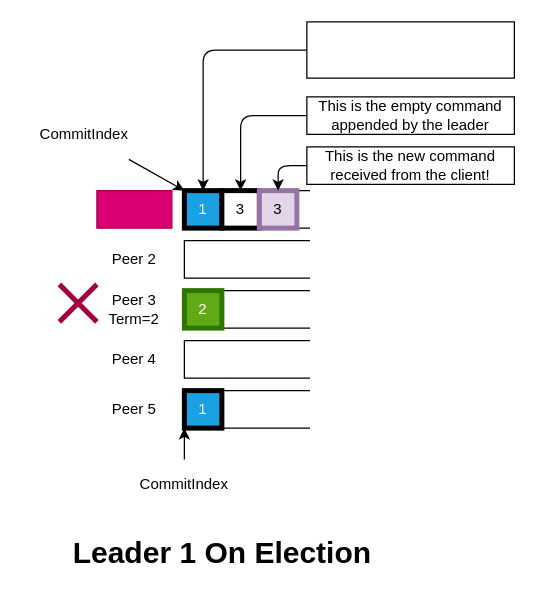
This 536x606 diagram has some shape labels left out. Each missing label, with the centre of its shape:
"CAN IMMEDIATELY replicate this together with the empty command!" goes at (410,49).
"Leader 1 Term=3" goes at (134,208).
